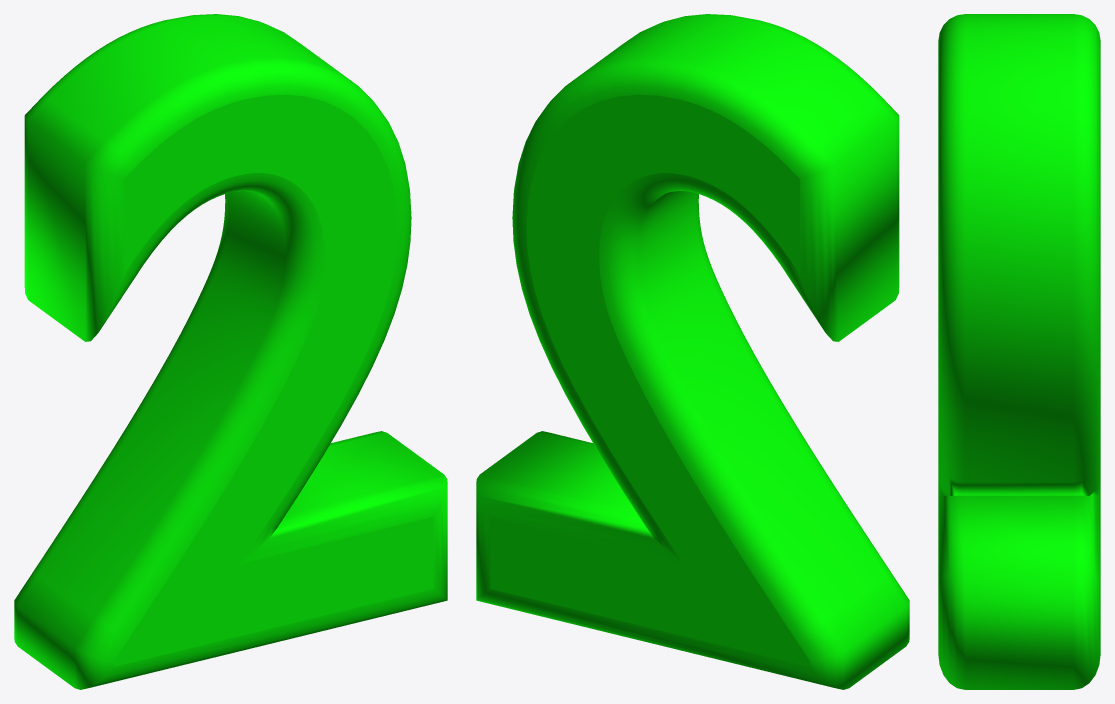
3 renders of one model, left to right at view 1: azimuth 30°, elevation 25°; view 2: azimuth 150°, elevation 25°; view 3: azimuth 270°, elevation 25°, orthographic. The views are drawn at different scales.
Visible parts, largest first — view 1: Text; view 2: Text; view 3: Text.
Part boxes in pixels (<box>): Text: <box>14,14,447,689</box>; Text: <box>476,14,909,689</box>; Text: <box>938,14,1100,689</box>.
Bounding box in the file's own units: 1.5 × 2.27 × 0.6.
